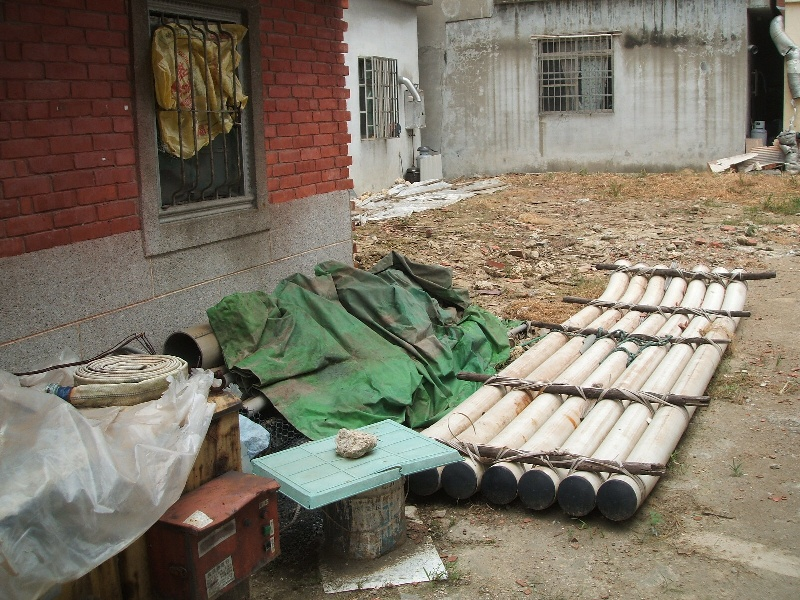plastic_bag: (205, 248, 514, 441), (1, 364, 215, 600)
plate: (252, 418, 464, 512)
